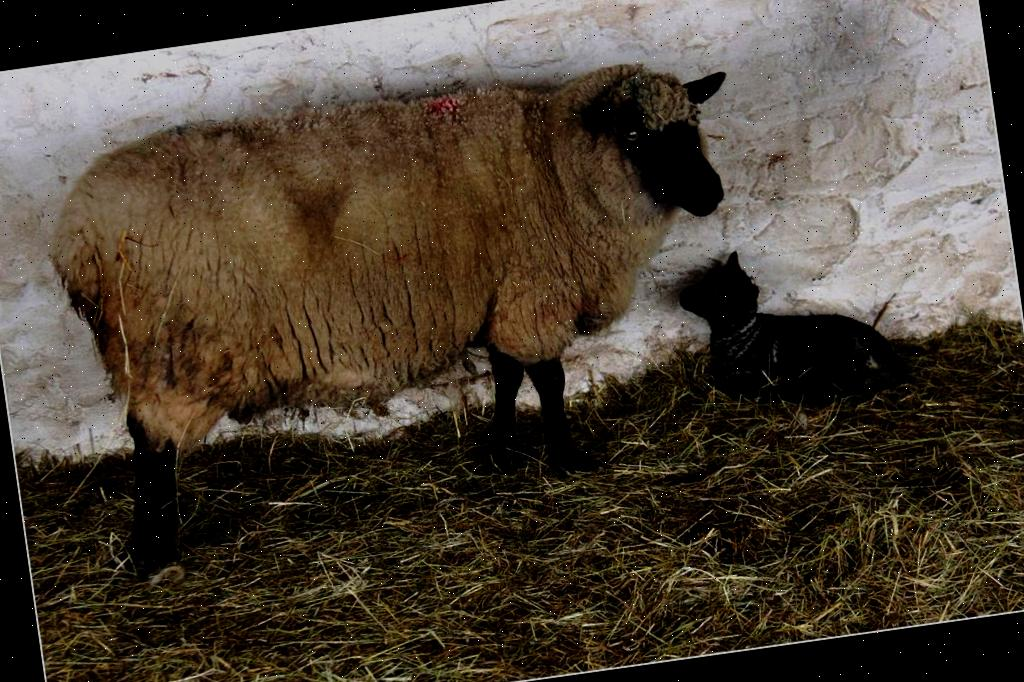Sheep: (38, 46, 782, 581), (674, 229, 910, 426)
